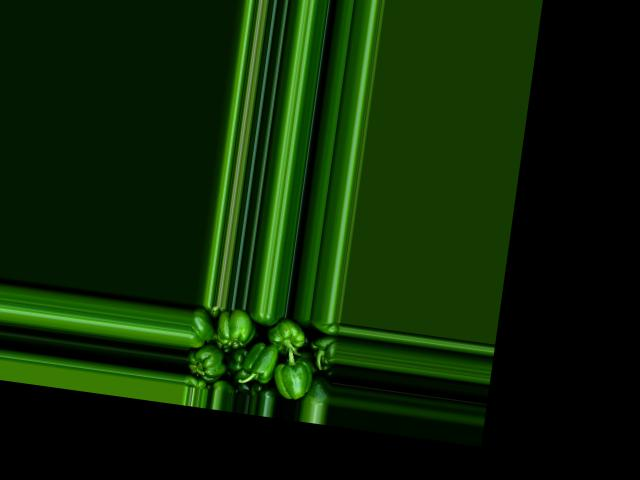bell_pepper: (297, 374, 333, 406)
